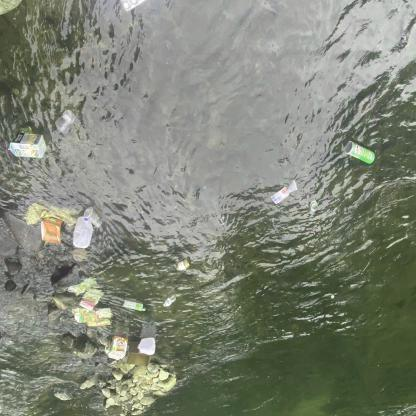Glass: (168, 253, 194, 275)
Metal: (342, 138, 378, 165)
Plastic: (70, 207, 104, 251), (267, 175, 301, 208), (51, 107, 74, 135), (134, 335, 160, 358), (112, 0, 150, 15), (162, 292, 178, 310)
Trash: (73, 307, 113, 329)
